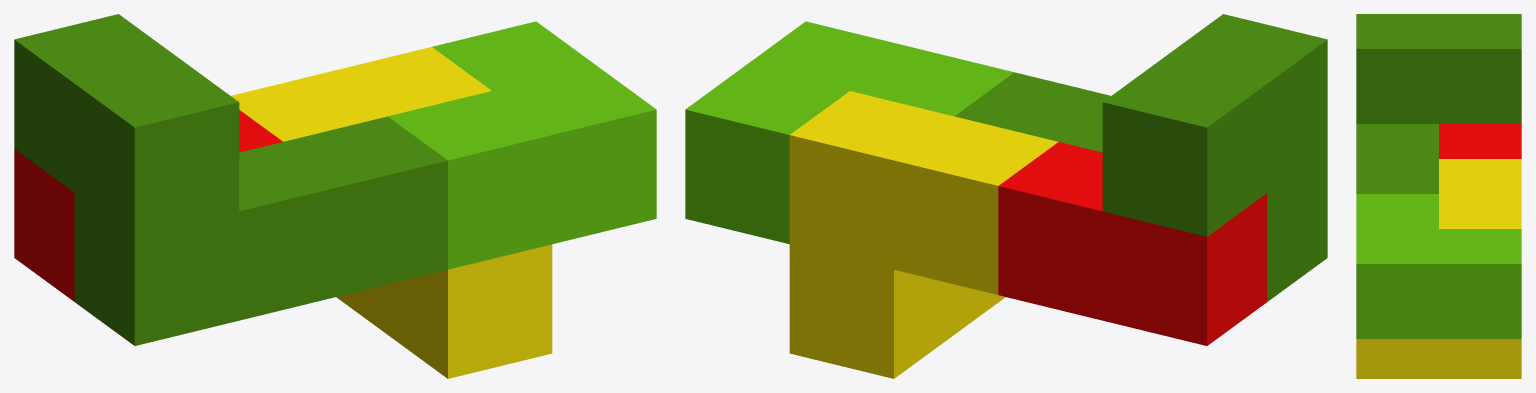
3 views of the same model, side by side, from view 1: azimuth 30°, elevation 25°; view 2: azimuth 150°, elevation 25°; view 3: azimuth 270°, elevation 25° (orthographic). The views are drawn at different scales.
Visible parts, largest first — view 1: mergedBlocks(Clone); view 2: mergedBlocks(Clone); view 3: mergedBlocks(Clone).
Boxes of the visible parts, x1,y1,x2,y2 form: mergedBlocks(Clone): [14, 14, 656, 378]; mergedBlocks(Clone): [685, 14, 1327, 378]; mergedBlocks(Clone): [1356, 14, 1521, 378].
Size of the model in its own units: 5 by 3 by 2.
Materials: 4 (4 with a texture image).
